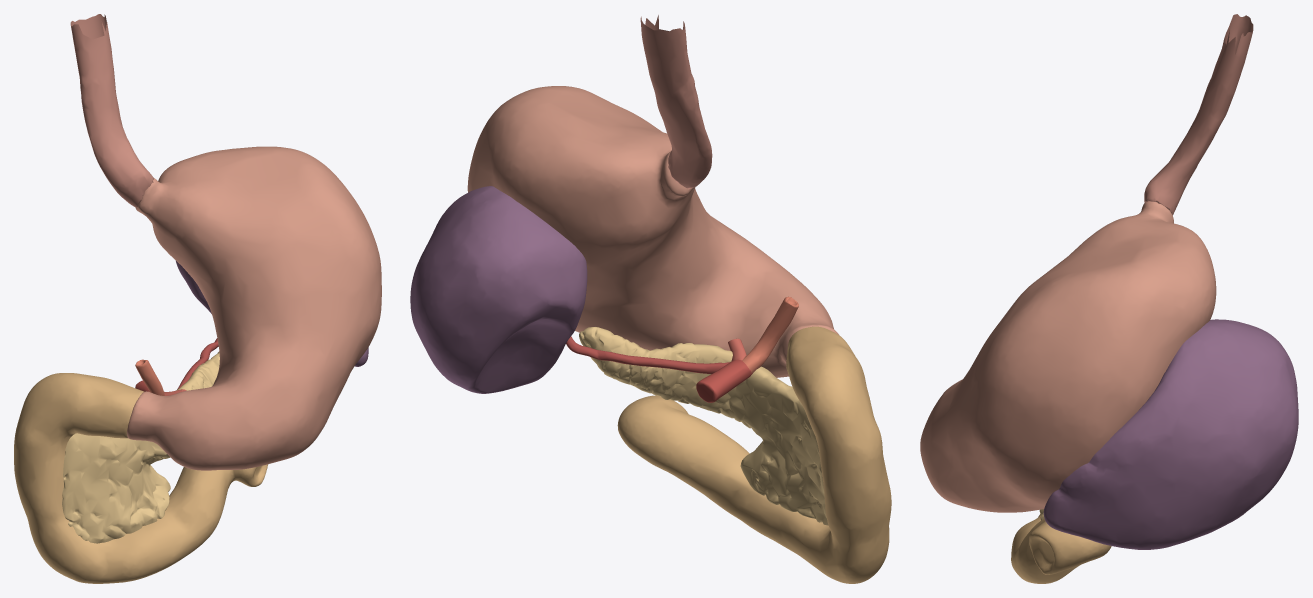
Rendered from stomach.glb.
The picture shows the model from 3 angles, left to right: view 1: azimuth 30°, elevation 25°; view 2: azimuth 150°, elevation 25°; view 3: azimuth 270°, elevation 25°; orthographic projection. The views are drawn at different scales.
Visible parts, largest first — view 1: stomach, duodenum, pancreas, esophagus, common-hepatic-artery, spleen; view 2: stomach, duodenum, spleen, pancreas, esophagus, splenic-artery, common-hepatic-artery, celiac-trunk; view 3: stomach, spleen, esophagus, duodenum.
Boxes of the visible parts, x1,y1,x2,y2 form: stomach: (127, 146, 381, 470); duodenum: (14, 373, 267, 583); pancreas: (62, 351, 219, 543); esophagus: (70, 14, 153, 207); common-hepatic-artery: (135, 359, 164, 395); spleen: (175, 260, 368, 366); stomach: (467, 86, 838, 377); duodenum: (617, 326, 891, 583); spleen: (410, 186, 587, 393); pancreas: (579, 327, 828, 525); esophagus: (640, 15, 712, 189); splenic-artery: (566, 336, 729, 373); common-hepatic-artery: (742, 296, 798, 373); celiac-trunk: (696, 359, 752, 402); stomach: (920, 201, 1216, 512); spleen: (1043, 319, 1298, 549); esophagus: (1144, 14, 1253, 215); duodenum: (1011, 514, 1111, 583).
Bounding box in the file's own units: 3.61 × 4.93 × 2.95.
